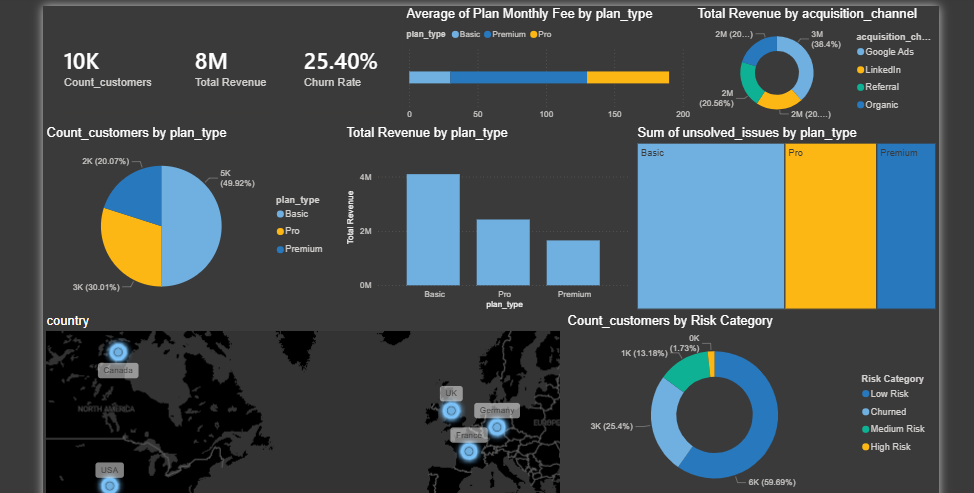

The dashboard page shown, as its layout file describes it:
{"tool":"powerbi","page":{"name":"Page 1","canvas":[1280,720],"ordinal":0},"visuals":[{"type":"azureMap","fields":{"Category":["model_data.country"]},"box":[0,438,744,282],"z":0},{"type":"cardVisual","fields":{"Data":["model_data.Count_customers"]},"box":[0,0,187.1,170],"z":1000},{"type":"pieChart","fields":{"Category":["model_data.plan_type"],"Y":["model_data.Count_customers"]},"box":[0,170,418,268],"z":2000},{"type":"clusteredColumnChart","fields":{"Category":["model_data.plan_type"],"Y":["model_data.Total Revenue"]},"box":[428,170,416,268],"z":3000},{"type":"donutChart","fields":{"Category":["model_data.Risk Category"],"Y":["model_data.Count_customers"]},"box":[744,438,536,270],"z":4000},{"type":"treemap","fields":{"Group":["model_data.plan_type"],"Values":["Sum(model_data.unsolved_issues)"]},"box":[844,170,436,268],"z":5000},{"type":"cardVisual","fields":{"Data":["model_data.Total Revenue"]},"box":[187.1,0,162.9,170],"z":6000},{"type":"barChart","fields":{"Series":["model_data.plan_type"],"Y":["Avg(model_data.Plan Monthly Fee)"]},"box":[514.3,0,415.7,170],"z":7000},{"type":"cardVisual","fields":{"Data":["model_data.Churn Rate","select"]},"box":[342.9,0,171.4,170],"z":8000},{"type":"donutChart","fields":{"Category":["model_data.acquisition_channel"],"Y":["model_data.Total Revenue"]},"box":[930,0,350,170],"z":8001}]}

Visuals, with their boxes on the page's 1280x720 design canvas (x1, y1, x2, y2). These are canvas units, not pixel positions in the 974x493 screenshot, which may show the page scaled, cropped or inside an application window:
azureMap - model_data.country: bbox=(0, 438, 744, 720)
cardVisual - model_data.Count_customers: bbox=(0, 0, 187, 170)
pieChart - model_data.plan_type x model_data.Count_customers: bbox=(0, 170, 418, 438)
clusteredColumnChart - model_data.plan_type x model_data.Total Revenue: bbox=(428, 170, 844, 438)
donutChart - model_data.Risk Category x model_data.Count_customers: bbox=(744, 438, 1280, 708)
treemap - model_data.plan_type x Sum(model_data.unsolved_issues): bbox=(844, 170, 1280, 438)
cardVisual - model_data.Total Revenue: bbox=(187, 0, 350, 170)
barChart - model_data.plan_type x Avg(model_data.Plan Monthly Fee): bbox=(514, 0, 930, 170)
cardVisual - model_data.Churn Rate x select: bbox=(343, 0, 514, 170)
donutChart - model_data.acquisition_channel x model_data.Total Revenue: bbox=(930, 0, 1280, 170)
